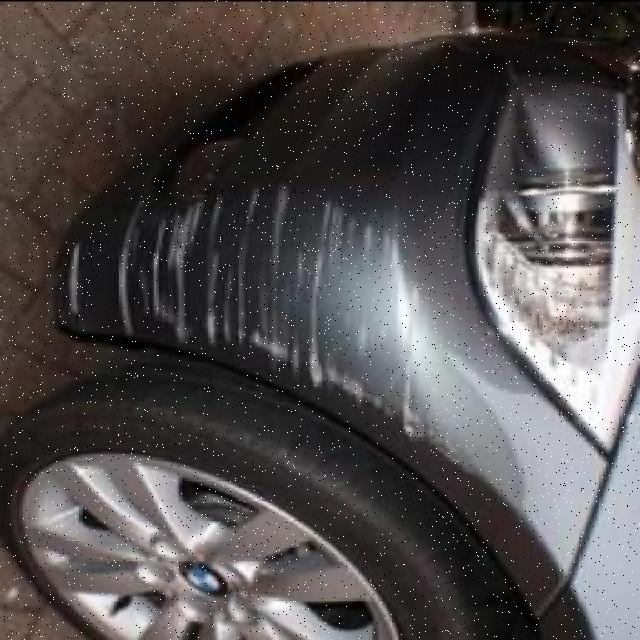damage: (122, 186, 469, 474)
